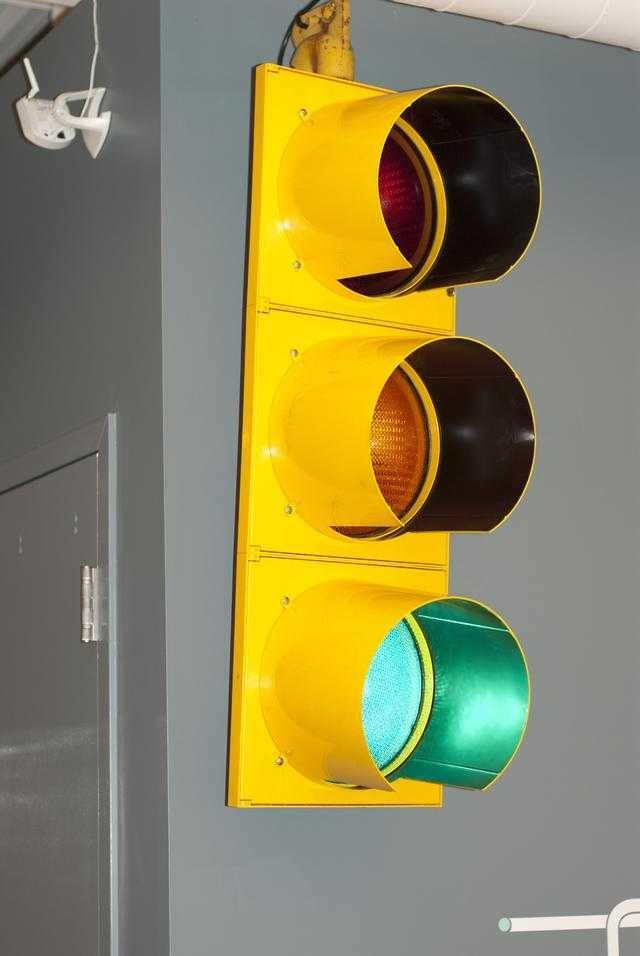green: (275, 564, 537, 816)
